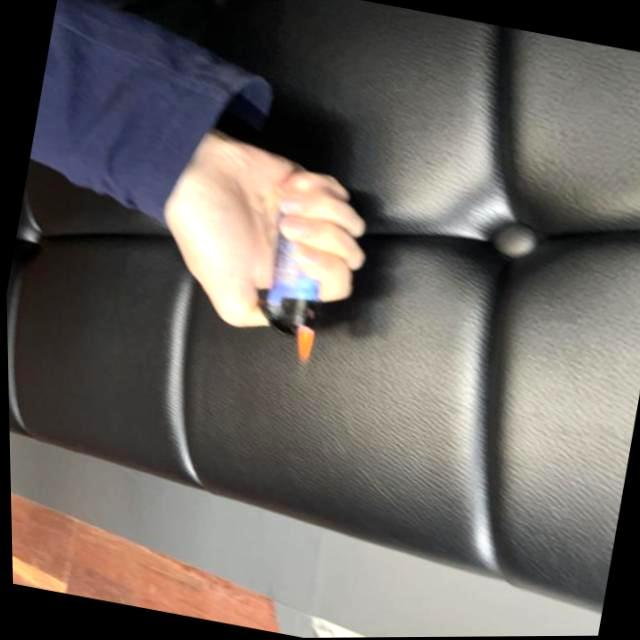fire: (284, 322, 318, 368)
